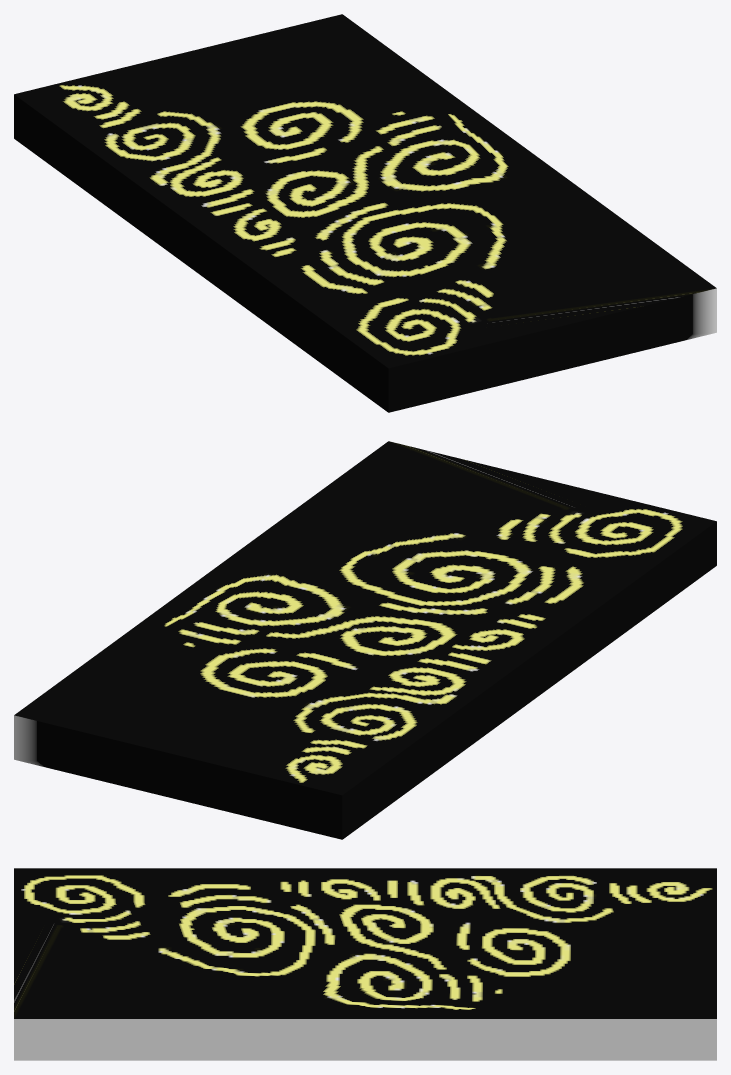
File: CharSkyKid_Prop_MoonlightMural_Cloud03.glb
The picture shows the model from 3 angles, top to bottom: view 1: azimuth 30°, elevation 25°; view 2: azimuth 150°, elevation 25°; view 3: azimuth 270°, elevation 25°; orthographic projection. The views are drawn at different scales.
Parts seen in each view (by area): view 1: CharSkyKid_Prop_MoonlightMural_Cloud03; view 2: CharSkyKid_Prop_MoonlightMural_Cloud03; view 3: CharSkyKid_Prop_MoonlightMural_Cloud03.
Boxes of the visible parts, x1,y1,x2,y2 form: CharSkyKid_Prop_MoonlightMural_Cloud03: (14, 14, 716, 412); CharSkyKid_Prop_MoonlightMural_Cloud03: (14, 441, 716, 839); CharSkyKid_Prop_MoonlightMural_Cloud03: (14, 868, 716, 1060).
Bounding box in the file's own units: 0.5063 × 0.0654 × 1.
1 material, 1 textured.
